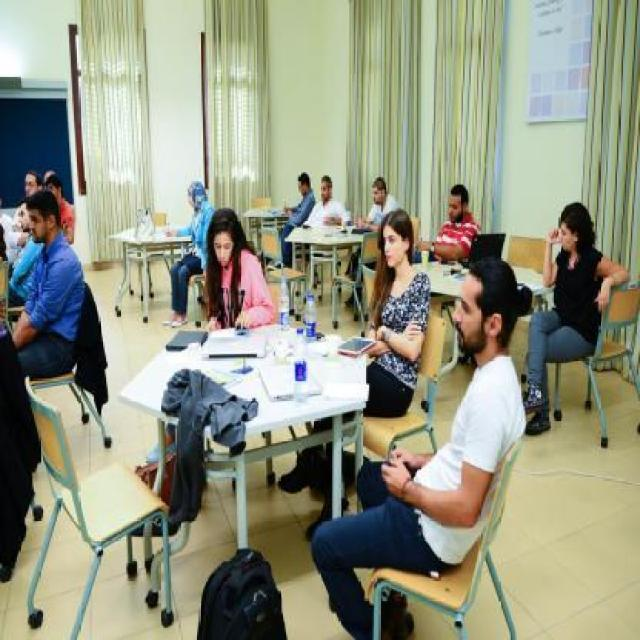backpack: (191, 540, 291, 640)
